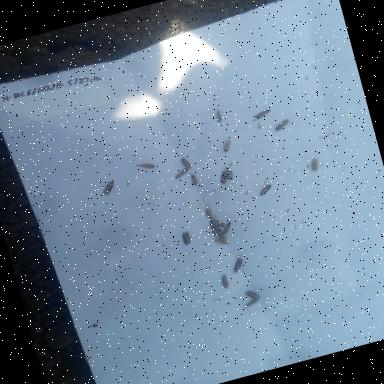pbw: (255, 179, 278, 197), (304, 154, 324, 174), (98, 179, 118, 199), (228, 256, 248, 275), (242, 286, 262, 303), (178, 155, 196, 172), (222, 163, 238, 182), (207, 216, 226, 232), (272, 117, 292, 132), (241, 297, 261, 310), (220, 136, 235, 153), (202, 204, 216, 222), (138, 158, 156, 172), (253, 108, 273, 120), (179, 230, 194, 246), (213, 234, 230, 248), (212, 108, 226, 125), (212, 224, 226, 240), (188, 170, 202, 186), (219, 273, 232, 290), (174, 168, 192, 180), (221, 221, 235, 235), (218, 170, 230, 186), (208, 222, 219, 238)
